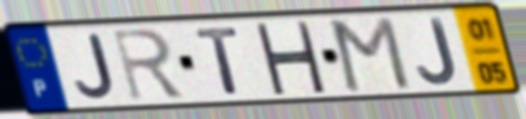H: (250, 21, 329, 95)
J: (414, 15, 460, 87), (72, 32, 118, 101)
M: (328, 14, 414, 94)
R: (108, 26, 189, 104)
T: (192, 25, 244, 97)
